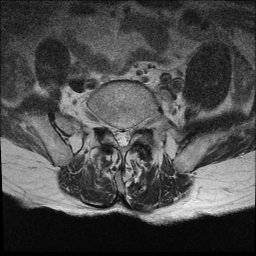CCS_normal: (119, 122, 125, 152)
LFS_stenosis: (132, 117, 139, 136)
LLS_normal: (125, 122, 132, 147)
RFS_stenosis: (106, 115, 113, 136)
RLS_normal: (113, 121, 119, 149)
